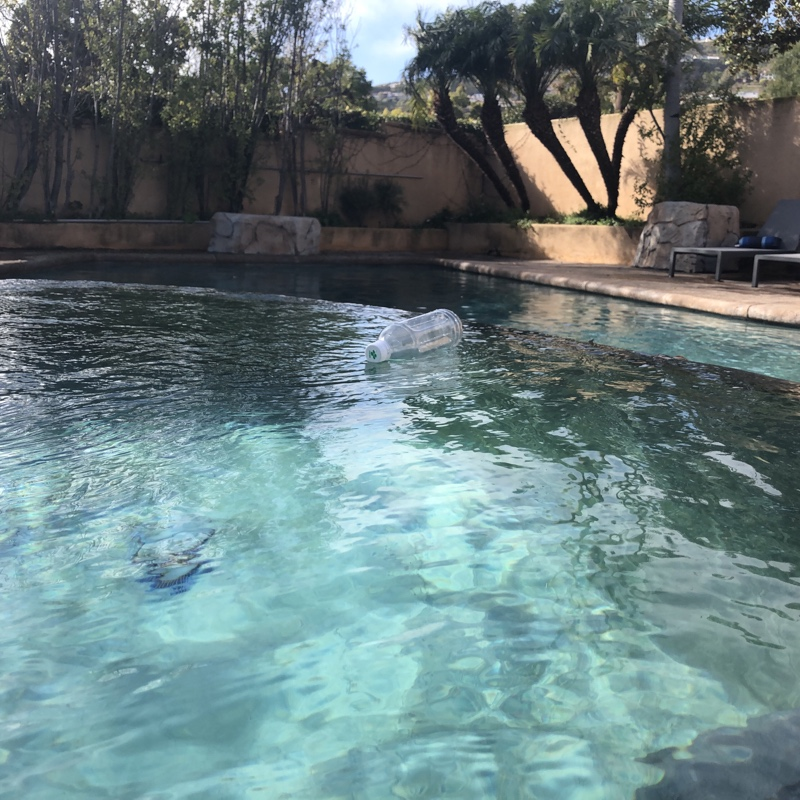Plastic Bottle: (361, 305, 473, 368)
